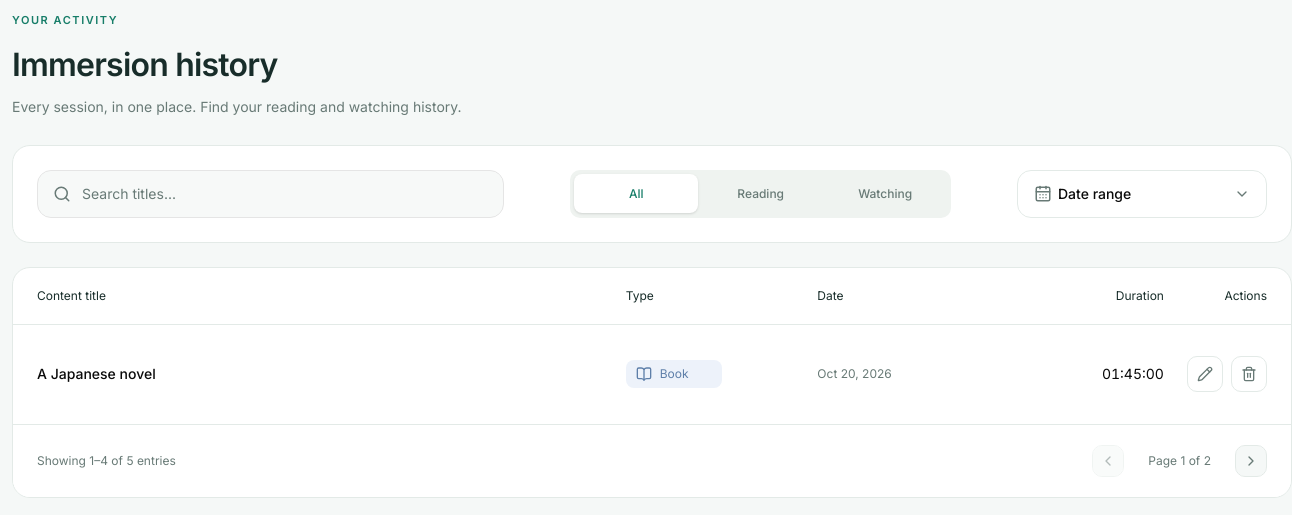
Test case: History › searches titles through the server and resets to page one
Expected: the link "A Japanese novel" is shown, [37,365,156,382]
Click the button named "Next page" at (1251, 461), box [1235,445,1267,477]
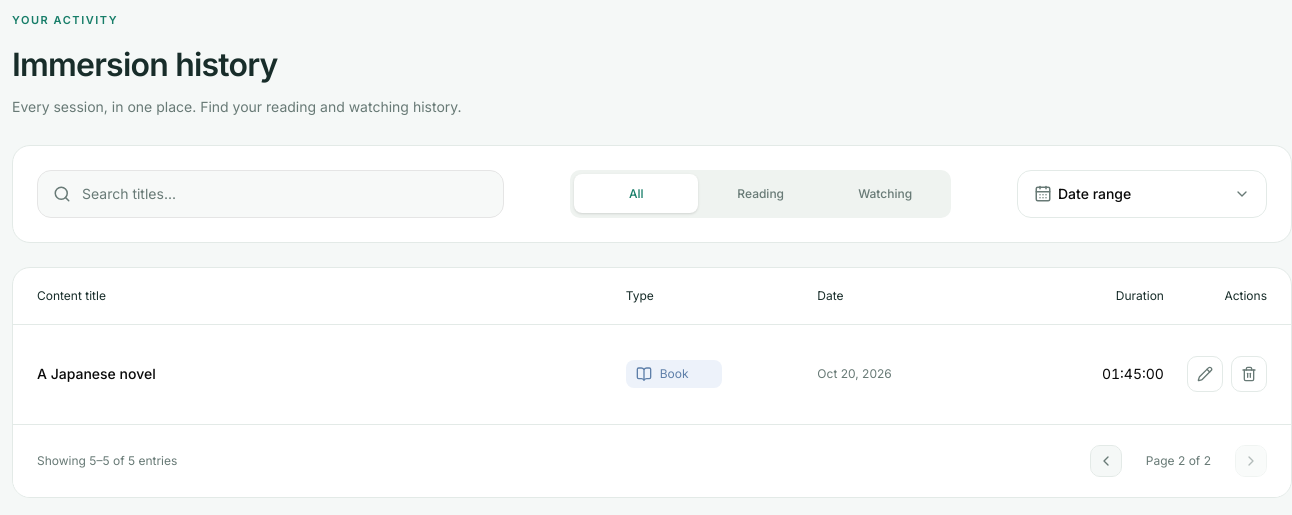
Expected: the link "A Japanese novel" is shown, [37,365,156,382]
Type "anime" into the field labelled "Search titles" at (271, 194), box [37,170,504,218]
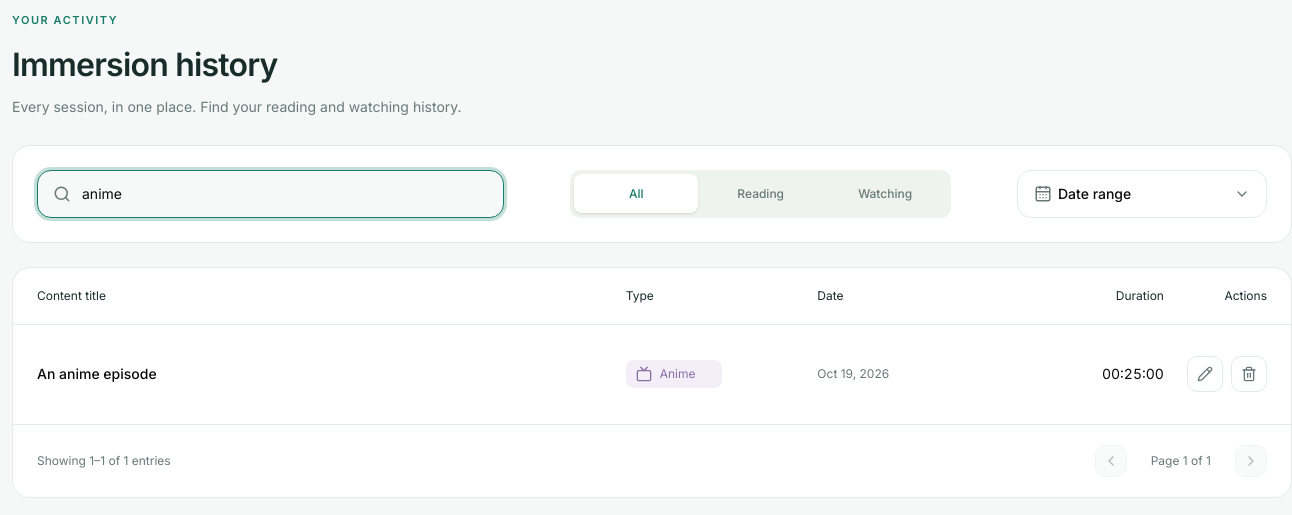
Result: the link "An anime episode" is shown at [37,365,157,382]
Result: the text "Page 1 of 1" is shown at [1151,453,1211,469]
